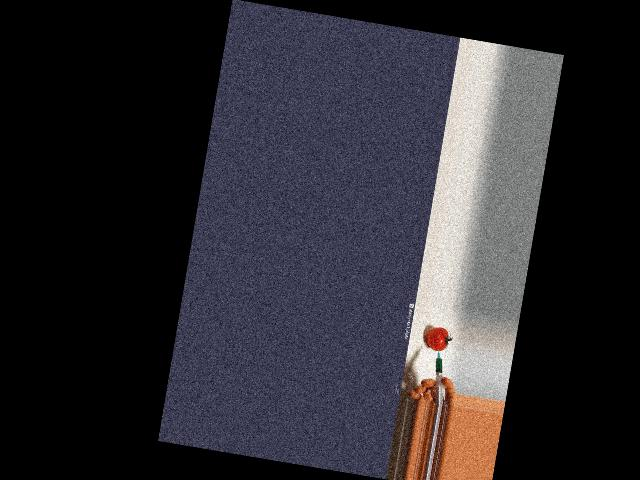tomato: (424, 326, 449, 352)
